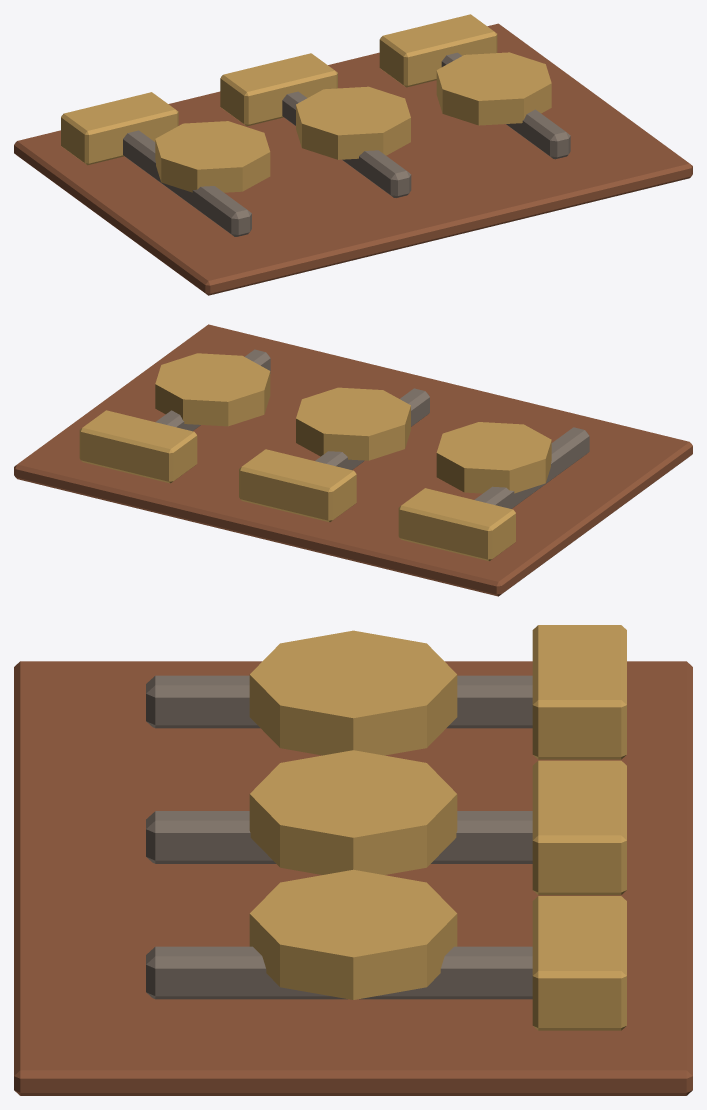
File: residential_accessories_01.glb
3 renders of one model, top to bottom at view 1: azimuth 30°, elevation 25°; view 2: azimuth 150°, elevation 25°; view 3: azimuth 270°, elevation 25°, orthographic. The views are drawn at different scales.
Parts seen in each view (by area): view 1: ToolMat, Gear_002, Gear, Gear_001, ToolHead, ToolHead_001, ToolHead_002, Tool, Tool_001, Tool_002; view 2: ToolMat, Gear_002, Gear, Gear_001, ToolHead_002, ToolHead, ToolHead_001, Tool, Tool_001, Tool_002; view 3: ToolMat, Gear, Gear_001, Gear_002, ToolHead_001, ToolHead, ToolHead_002, Tool_002, Tool_001, Tool.
Boxes of the visible parts, x1,y1,x2,y2 form: ToolMat: (14,23,692,295); Gear_002: (436,52,551,125); Gear: (155,121,270,192); Gear_001: (296,86,410,159); ToolHead: (61,92,178,165); ToolHead_001: (220,53,337,126); ToolHead_002: (379,14,497,87); Tool: (123,130,251,236); Tool_001: (282,91,411,197); Tool_002: (441,52,570,159); ToolMat: (14,324,692,596); Gear_002: (155,353,270,426); Gear: (436,422,551,493); Gear_001: (296,387,410,460); ToolHead_002: (79,410,197,483); ToolHead: (398,488,515,561); ToolHead_001: (239,449,356,522); Tool: (474,427,589,508); Tool_001: (315,388,429,469); Tool_002: (155,349,270,431); ToolMat: (14,661,692,1095); Gear: (249,630,457,755); Gear_001: (249,750,457,874); Gear_002: (249,869,457,999); ToolHead_001: (532,760,626,895); ToolHead: (532,625,626,759); ToolHead_002: (532,896,626,1030); Tool_002: (146,946,532,999); Tool_001: (146,811,532,863); Tool: (146,675,532,728).
Size of the model in its own units: 0.52 by 0.057 by 0.36.
